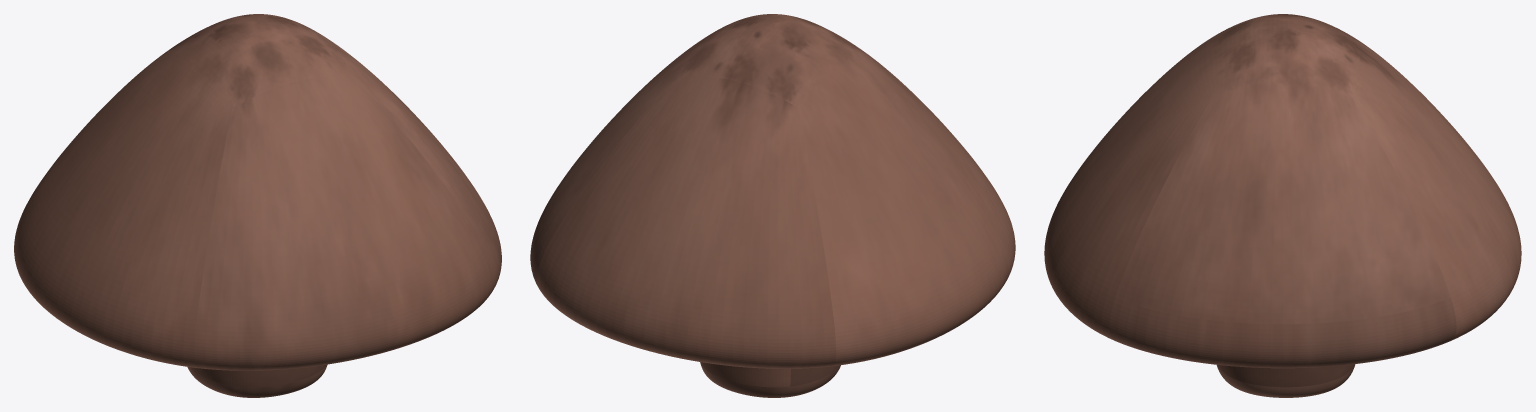
The model's file is Pilz1.fbx.
The picture shows the model from 3 angles, left to right: view 1: azimuth 30°, elevation 25°; view 2: azimuth 150°, elevation 25°; view 3: azimuth 270°, elevation 25°; orthographic projection.
Parts seen in each view (by area): view 1: Cube.003; view 2: Cube.003; view 3: Cube.003.
Part boxes in pixels (bbox=[...]): Cube.003: bbox=[14, 14, 501, 397]; Cube.003: bbox=[530, 14, 1015, 397]; Cube.003: bbox=[1044, 14, 1521, 397].
Size of the model in its own units: 56.65 by 46.64 by 56.65.
